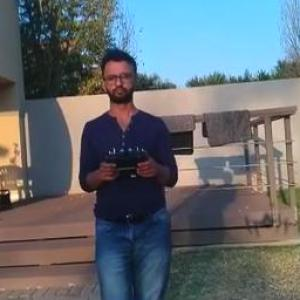follow: (72, 43, 182, 299)
